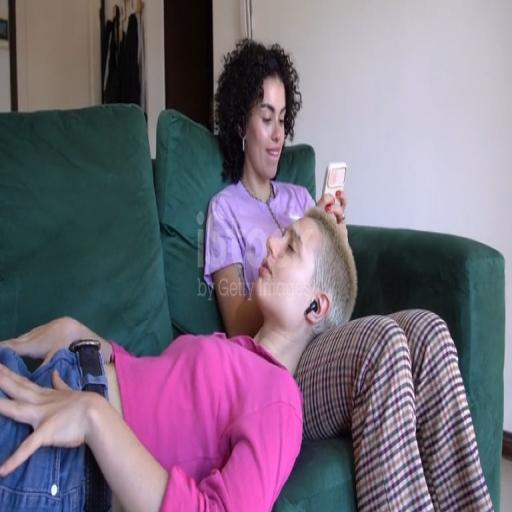earphone: (301, 297, 322, 323)
